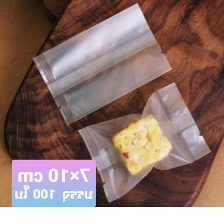snack: (27, 0, 216, 205)
